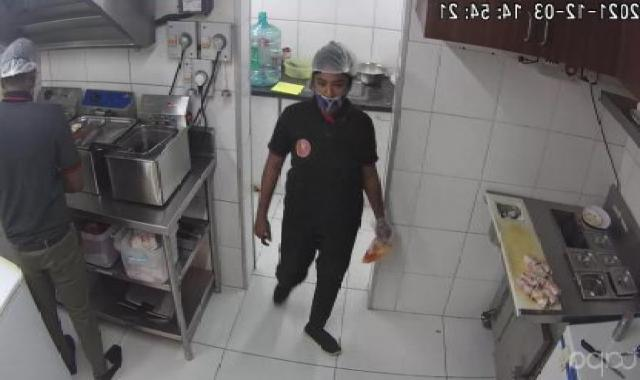hairnet: (302, 37, 367, 101), (5, 31, 54, 88)
